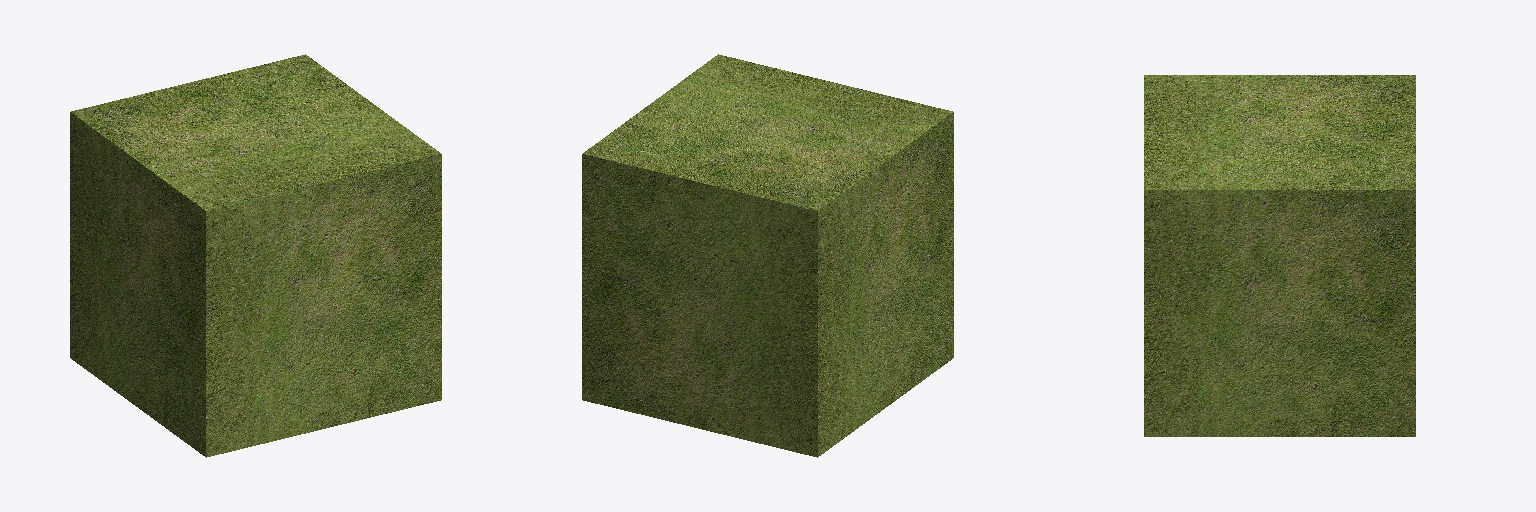
3 views of the same model, side by side, from view 1: azimuth 30°, elevation 25°; view 2: azimuth 150°, elevation 25°; view 3: azimuth 270°, elevation 25° (orthographic).
Visible parts, largest first — view 1: Cube; view 2: Cube; view 3: Cube.
Boxes of the visible parts, x1,y1,x2,y2 form: Cube: [70, 54, 441, 457]; Cube: [582, 54, 953, 457]; Cube: [1144, 75, 1415, 436].
Bounding box in the file's own units: 0.6589 × 0.6589 × 0.6589.
1 materials, 1 textured.